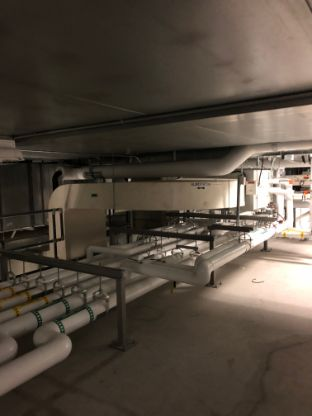Duct: (45, 176, 247, 213), (37, 178, 117, 264)
